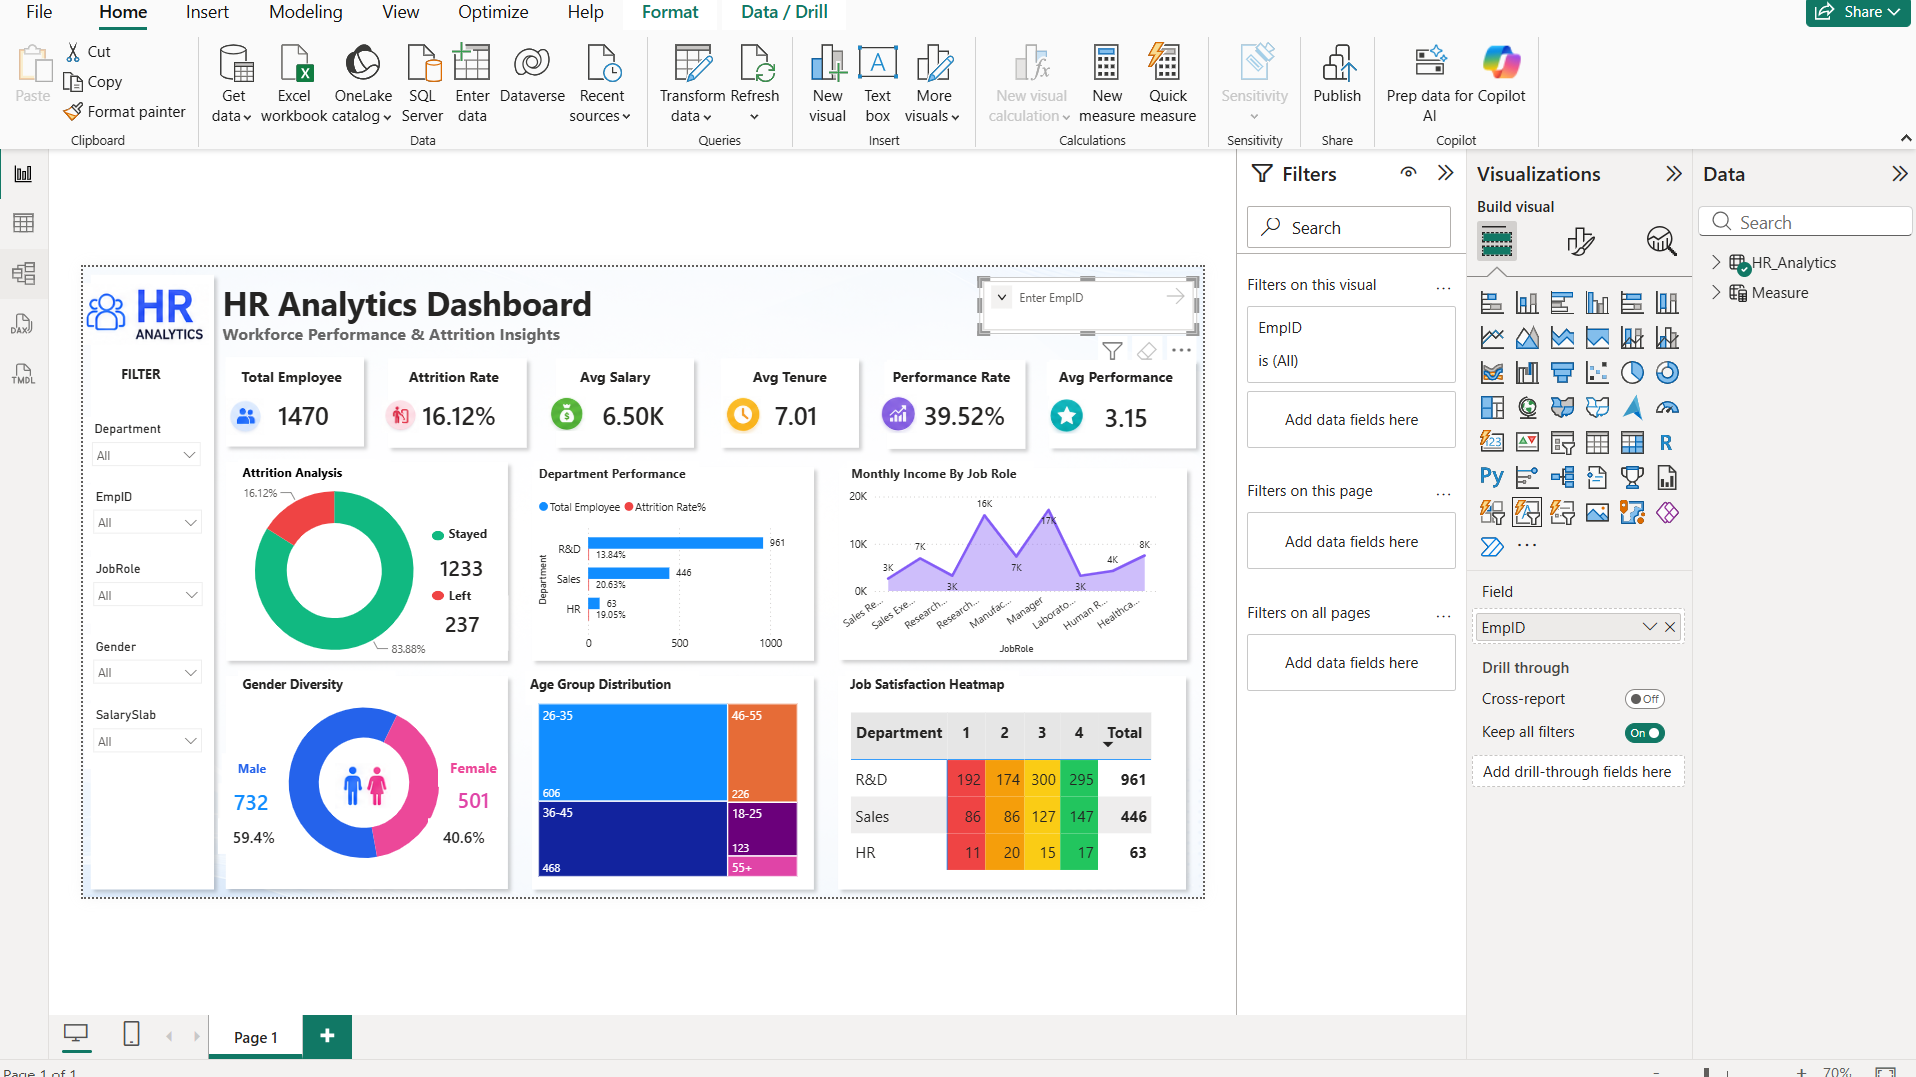

What the dashboard file says about the page in this screenshot:
{"tool":"powerbi","page":{"name":"Page 1","canvas":[1280,720],"ordinal":0},"visuals":[{"type":"shape","box":[1095,97.5,185,118.8],"z":0},{"type":"shape","box":[340.3,96.1,175.6,119.4],"z":1000},{"type":"shape","box":[531,96.1,175.6,119.4],"z":2000},{"type":"shape","box":[153.7,94.7,175.6,119.4],"z":3000},{"type":"textbox","box":[153.7,58.9,410,36.3],"z":4000},{"type":"shape","box":[720.4,96.1,175.6,119.4],"z":5000},{"type":"shape","box":[909.8,97.4,175.6,119.4],"z":6000},{"type":"textbox","box":[153.8,11.2,440,61.2],"z":7000},{"type":"textbox","box":[163.1,108.1,153.1,38.1],"z":8000},{"type":"textbox","box":[363.1,108,130.5,38],"z":9000},{"type":"textbox","box":[916.2,108.1,157.5,38.1],"z":10000},{"type":"textbox","box":[1101.9,108.1,150,38.1],"z":11000},{"type":"textbox","box":[554.1,108,130.5,38],"z":12000},{"type":"textbox","box":[742.8,108,130.5,38],"z":13000},{"type":"cardVisual","fields":{"Data":["Measure.Total Employee"]},"box":[185,137.5,132.5,62.5],"z":14000},{"type":"cardVisual","fields":{"Data":["Measure.Promotion Rate%"]},"box":[943.4,137.5,130.7,63.3],"z":15000},{"type":"cardVisual","fields":{"Data":["Avg(HR_Analytics.YearsAtCompany)"]},"box":[761,137,120,62],"z":16000},{"type":"cardVisual","fields":{"Data":["Avg(HR_Analytics.MonthlyIncome)"]},"box":[564,137,131,62],"z":17000},{"type":"cardVisual","fields":{"Data":["Measure.Attrition Rate%"]},"box":[358.5,137.5,145.5,62],"z":18000},{"type":"cardVisual","fields":{"Data":["Avg(HR_Analytics.PerformanceRating)"]},"box":[1139,138,113,62],"z":19000},{"type":"image","box":[164.3,147.1,42.9,47.1],"z":20000},{"type":"image","box":[731.4,145.7,44.3,47.1],"z":21000},{"type":"image","box":[531.4,144.3,42.9,47.1],"z":22000},{"type":"image","box":[341.4,147.1,42.9,47.1],"z":23000},{"type":"image","box":[1102.9,147.1,42.9,47.1],"z":24000},{"type":"image","box":[910,144.3,42.9,47.1],"z":25000},{"type":"shape","box":[154.3,214.3,340,244.3],"z":26000},{"type":"textbox","box":[177,220,174,34],"z":27000},{"type":"cardVisual","fields":{"Data":["Measure.Total Employee"]},"box":[381.4,312.7,103.8,62],"z":28000},{"type":"textbox","box":[413,290,64,33],"z":29000},{"type":"cardVisual","fields":{"Data":["Measure.Total Employee"]},"box":[381.1,376.3,104.7,62.1],"z":30000},{"type":"shape","box":[398.6,301.4,14.3,11.4],"z":31000},{"type":"textbox","box":[413,360,45,33],"z":32000},{"type":"shape","box":[398.4,370.5,14.2,11.1],"z":33000},{"type":"donutChart","fields":{"Category":["HR_Analytics.Attrition"],"Y":["Measure.Total Employee"]},"box":[112,217,351.8,260],"z":34000},{"type":"shape","box":[504.3,220,340,238.6],"z":35000},{"type":"clusteredBarChart","fields":{"Category":["HR_Analytics.Department"],"Y":["Measure.Total Employee","Measure.Attrition Rate%"]},"box":[515.7,254.3,305.7,194.3],"z":36000},{"type":"textbox","box":[515.5,220.9,189.1,33.6],"z":37000},{"type":"shape","box":[855,221.2,415,236.2],"z":38000},{"type":"textbox","box":[872.5,221.2,213.8,33.8],"z":39000},{"type":"areaChart","fields":{"Category":["HR_Analytics.JobRole"],"Y":["Avg(HR_Analytics.MonthlyIncome)"]},"box":[855,248.8,377.5,198.8],"z":40000},{"type":"shape","box":[153.8,458.8,340,261.2],"z":41000},{"type":"donutChart","fields":{"Category":["HR_Analytics.Gender"],"Y":["Measure.Total Employee"]},"box":[185,477.5,271.2,225],"z":42000},{"type":"image","box":[288.3,555,63.3,75],"z":43000},{"type":"textbox","box":[177.5,461.2,180,33.8],"z":44000},{"type":"textbox","box":[159,555,73,38],"z":45000},{"type":"cardVisual","fields":{"Data":["Measure.Total Employee"]},"box":[153.6,590.3,76.8,40.4],"z":46000},{"type":"textbox","box":[406,555,80,38],"z":47000},{"type":"shape","box":[0,0,158.6,720],"z":48000},{"type":"cardVisual","fields":{"Data":["Measure.Total Employee"]},"box":[407,587.6,78.2,41.8],"z":49000},{"type":"cardVisual","fields":{"Data":["Measure.Male %"]},"box":[155,630.7,86.3,40.4],"z":50000},{"type":"cardVisual","fields":{"Data":["Measure.Female %"]},"box":[394.9,629.4,90.3,41.8],"z":51000},{"type":"shape","box":[504,458.2,339.6,261.4],"z":52000},{"type":"textbox","box":[505.4,460.9,198.1,39.1],"z":53000},{"type":"treemap","fields":{"Group":["HR_Analytics.AgeGroup"],"Values":["Measure.Total Employee"]},"box":[516.2,494.6,305.9,207.5],"z":54000},{"type":"shape","box":[854.4,458.2,415.1,261.4],"z":55000},{"type":"textbox","box":[871.9,460.9,198.1,39.1],"z":56000},{"type":"pivotTable","fields":{"Rows":["HR_Analytics.Department"],"Columns":["HR_Analytics.JobSatisfaction"],"Values":["Measure.Total Employee"]},"box":[873.3,504,358.5,190],"z":57000},{"type":"image","box":[0,10.8,144.2,84.9],"z":58000},{"type":"textbox","box":[39.2,107.5,66.7,30],"z":59000},{"type":"slicer","fields":{"Values":["HR_Analytics.Department"]},"box":[0,171,144,75],"z":60000},{"type":"slicer","fields":{"Values":["HR_Analytics.EmpID"]},"box":[2,249,144,75],"z":61000},{"type":"slicer","fields":{"Values":["HR_Analytics.JobRole"]},"box":[1,331,145,76],"z":62000},{"type":"slicer","fields":{"Values":["HR_Analytics.Gender"]},"box":[1,420,144,75],"z":63000},{"type":"slicer","fields":{"Values":["HR_Analytics.SalarySlab"]},"box":[1,499,144,75],"z":64000},{"type":"textSlicer","fields":{"Values":["HR_Analytics.EmpID"]},"box":[1024.3,11.4,250,65.7],"z":65000}]}

Visuals, with their boxes on the page's 1280x720 design canvas (x1, y1, x2, y2). These are canvas units, not pixel positions in the 1916x1077 screenshot, which may show the page scaled, cropped or inside an application window:
shape: l=1095, t=98, r=1280, b=216
shape: l=340, t=96, r=516, b=216
shape: l=531, t=96, r=707, b=216
shape: l=154, t=95, r=329, b=214
textbox: l=154, t=59, r=564, b=95
shape: l=720, t=96, r=896, b=216
shape: l=910, t=97, r=1085, b=217
textbox: l=154, t=11, r=594, b=72
textbox: l=163, t=108, r=316, b=146
textbox: l=363, t=108, r=494, b=146
textbox: l=916, t=108, r=1074, b=146
textbox: l=1102, t=108, r=1252, b=146
textbox: l=554, t=108, r=685, b=146
textbox: l=743, t=108, r=873, b=146
cardVisual - Measure.Total Employee: l=185, t=138, r=318, b=200
cardVisual - Measure.Promotion Rate%: l=943, t=138, r=1074, b=201
cardVisual - Avg(HR_Analytics.YearsAtCompany): l=761, t=137, r=881, b=199
cardVisual - Avg(HR_Analytics.MonthlyIncome): l=564, t=137, r=695, b=199
cardVisual - Measure.Attrition Rate%: l=358, t=138, r=504, b=200
cardVisual - Avg(HR_Analytics.PerformanceRating): l=1139, t=138, r=1252, b=200
image: l=164, t=147, r=207, b=194
image: l=731, t=146, r=776, b=193
image: l=531, t=144, r=574, b=191
image: l=341, t=147, r=384, b=194
image: l=1103, t=147, r=1146, b=194
image: l=910, t=144, r=953, b=191
shape: l=154, t=214, r=494, b=459
textbox: l=177, t=220, r=351, b=254
cardVisual - Measure.Total Employee: l=381, t=313, r=485, b=375
textbox: l=413, t=290, r=477, b=323
cardVisual - Measure.Total Employee: l=381, t=376, r=486, b=438
shape: l=399, t=301, r=413, b=313
textbox: l=413, t=360, r=458, b=393
shape: l=398, t=370, r=413, b=382
donutChart - HR_Analytics.Attrition x Measure.Total Employee: l=112, t=217, r=464, b=477
shape: l=504, t=220, r=844, b=459
clusteredBarChart - HR_Analytics.Department x Measure.Total Employee: l=516, t=254, r=821, b=449
textbox: l=516, t=221, r=705, b=254
shape: l=855, t=221, r=1270, b=457
textbox: l=872, t=221, r=1086, b=255
areaChart - HR_Analytics.JobRole x Avg(HR_Analytics.MonthlyIncome): l=855, t=249, r=1232, b=448
shape: l=154, t=459, r=494, b=720
donutChart - HR_Analytics.Gender x Measure.Total Employee: l=185, t=478, r=456, b=702
image: l=288, t=555, r=352, b=630
textbox: l=178, t=461, r=358, b=495
textbox: l=159, t=555, r=232, b=593
cardVisual - Measure.Total Employee: l=154, t=590, r=230, b=631
textbox: l=406, t=555, r=486, b=593
shape: l=0, t=0, r=159, b=720
cardVisual - Measure.Total Employee: l=407, t=588, r=485, b=629
cardVisual - Measure.Male %: l=155, t=631, r=241, b=671
cardVisual - Measure.Female %: l=395, t=629, r=485, b=671
shape: l=504, t=458, r=844, b=720
textbox: l=505, t=461, r=704, b=500
treemap - HR_Analytics.AgeGroup x Measure.Total Employee: l=516, t=495, r=822, b=702
shape: l=854, t=458, r=1270, b=720
textbox: l=872, t=461, r=1070, b=500
pivotTable - HR_Analytics.Department x HR_Analytics.JobSatisfaction: l=873, t=504, r=1232, b=694
image: l=0, t=11, r=144, b=96
textbox: l=39, t=108, r=106, b=138
slicer - HR_Analytics.Department: l=0, t=171, r=144, b=246
slicer - HR_Analytics.EmpID: l=2, t=249, r=146, b=324
slicer - HR_Analytics.JobRole: l=1, t=331, r=146, b=407
slicer - HR_Analytics.Gender: l=1, t=420, r=145, b=495
slicer - HR_Analytics.SalarySlab: l=1, t=499, r=145, b=574
textSlicer - HR_Analytics.EmpID: l=1024, t=11, r=1274, b=77
